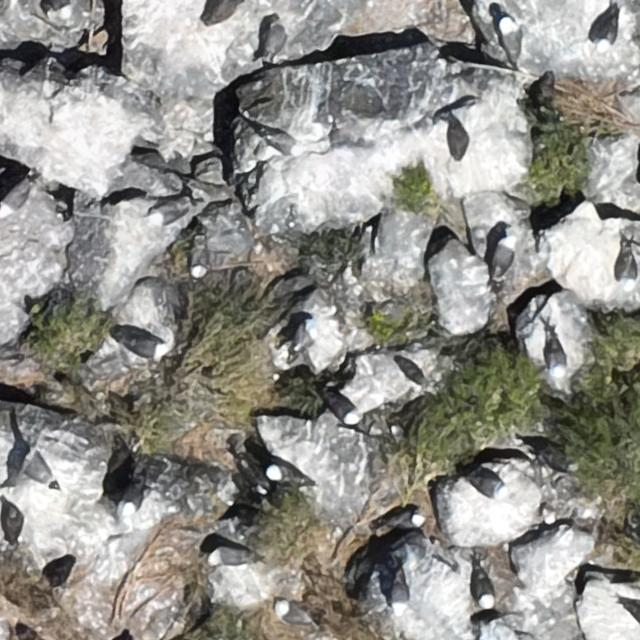umineko: (149, 192, 197, 229), (544, 328, 572, 384), (4, 174, 35, 217), (204, 545, 258, 569), (260, 129, 304, 157), (116, 484, 146, 522), (499, 16, 523, 63), (616, 242, 638, 290), (289, 325, 319, 357), (190, 226, 207, 282), (24, 449, 52, 482), (123, 337, 163, 358), (494, 235, 514, 272), (330, 397, 358, 423), (278, 604, 311, 626), (474, 480, 508, 500), (476, 573, 494, 606), (395, 510, 425, 528), (598, 21, 616, 50), (393, 578, 408, 612), (268, 465, 296, 482), (623, 602, 639, 624)
